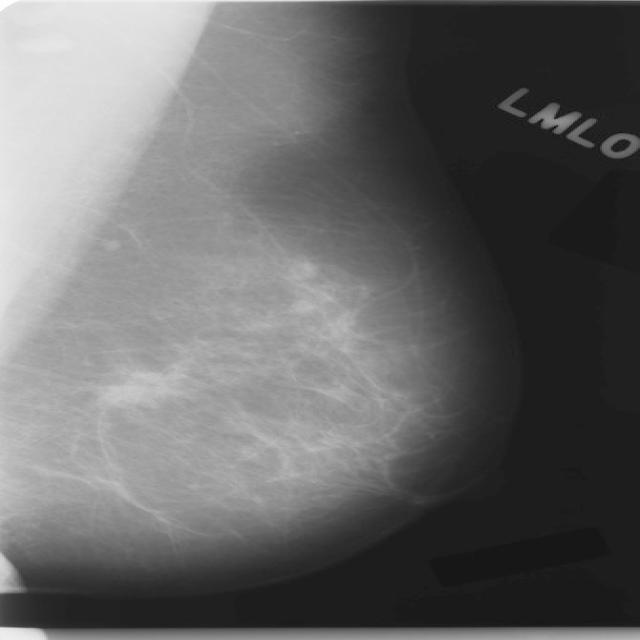tumour: (96, 366, 182, 407)
